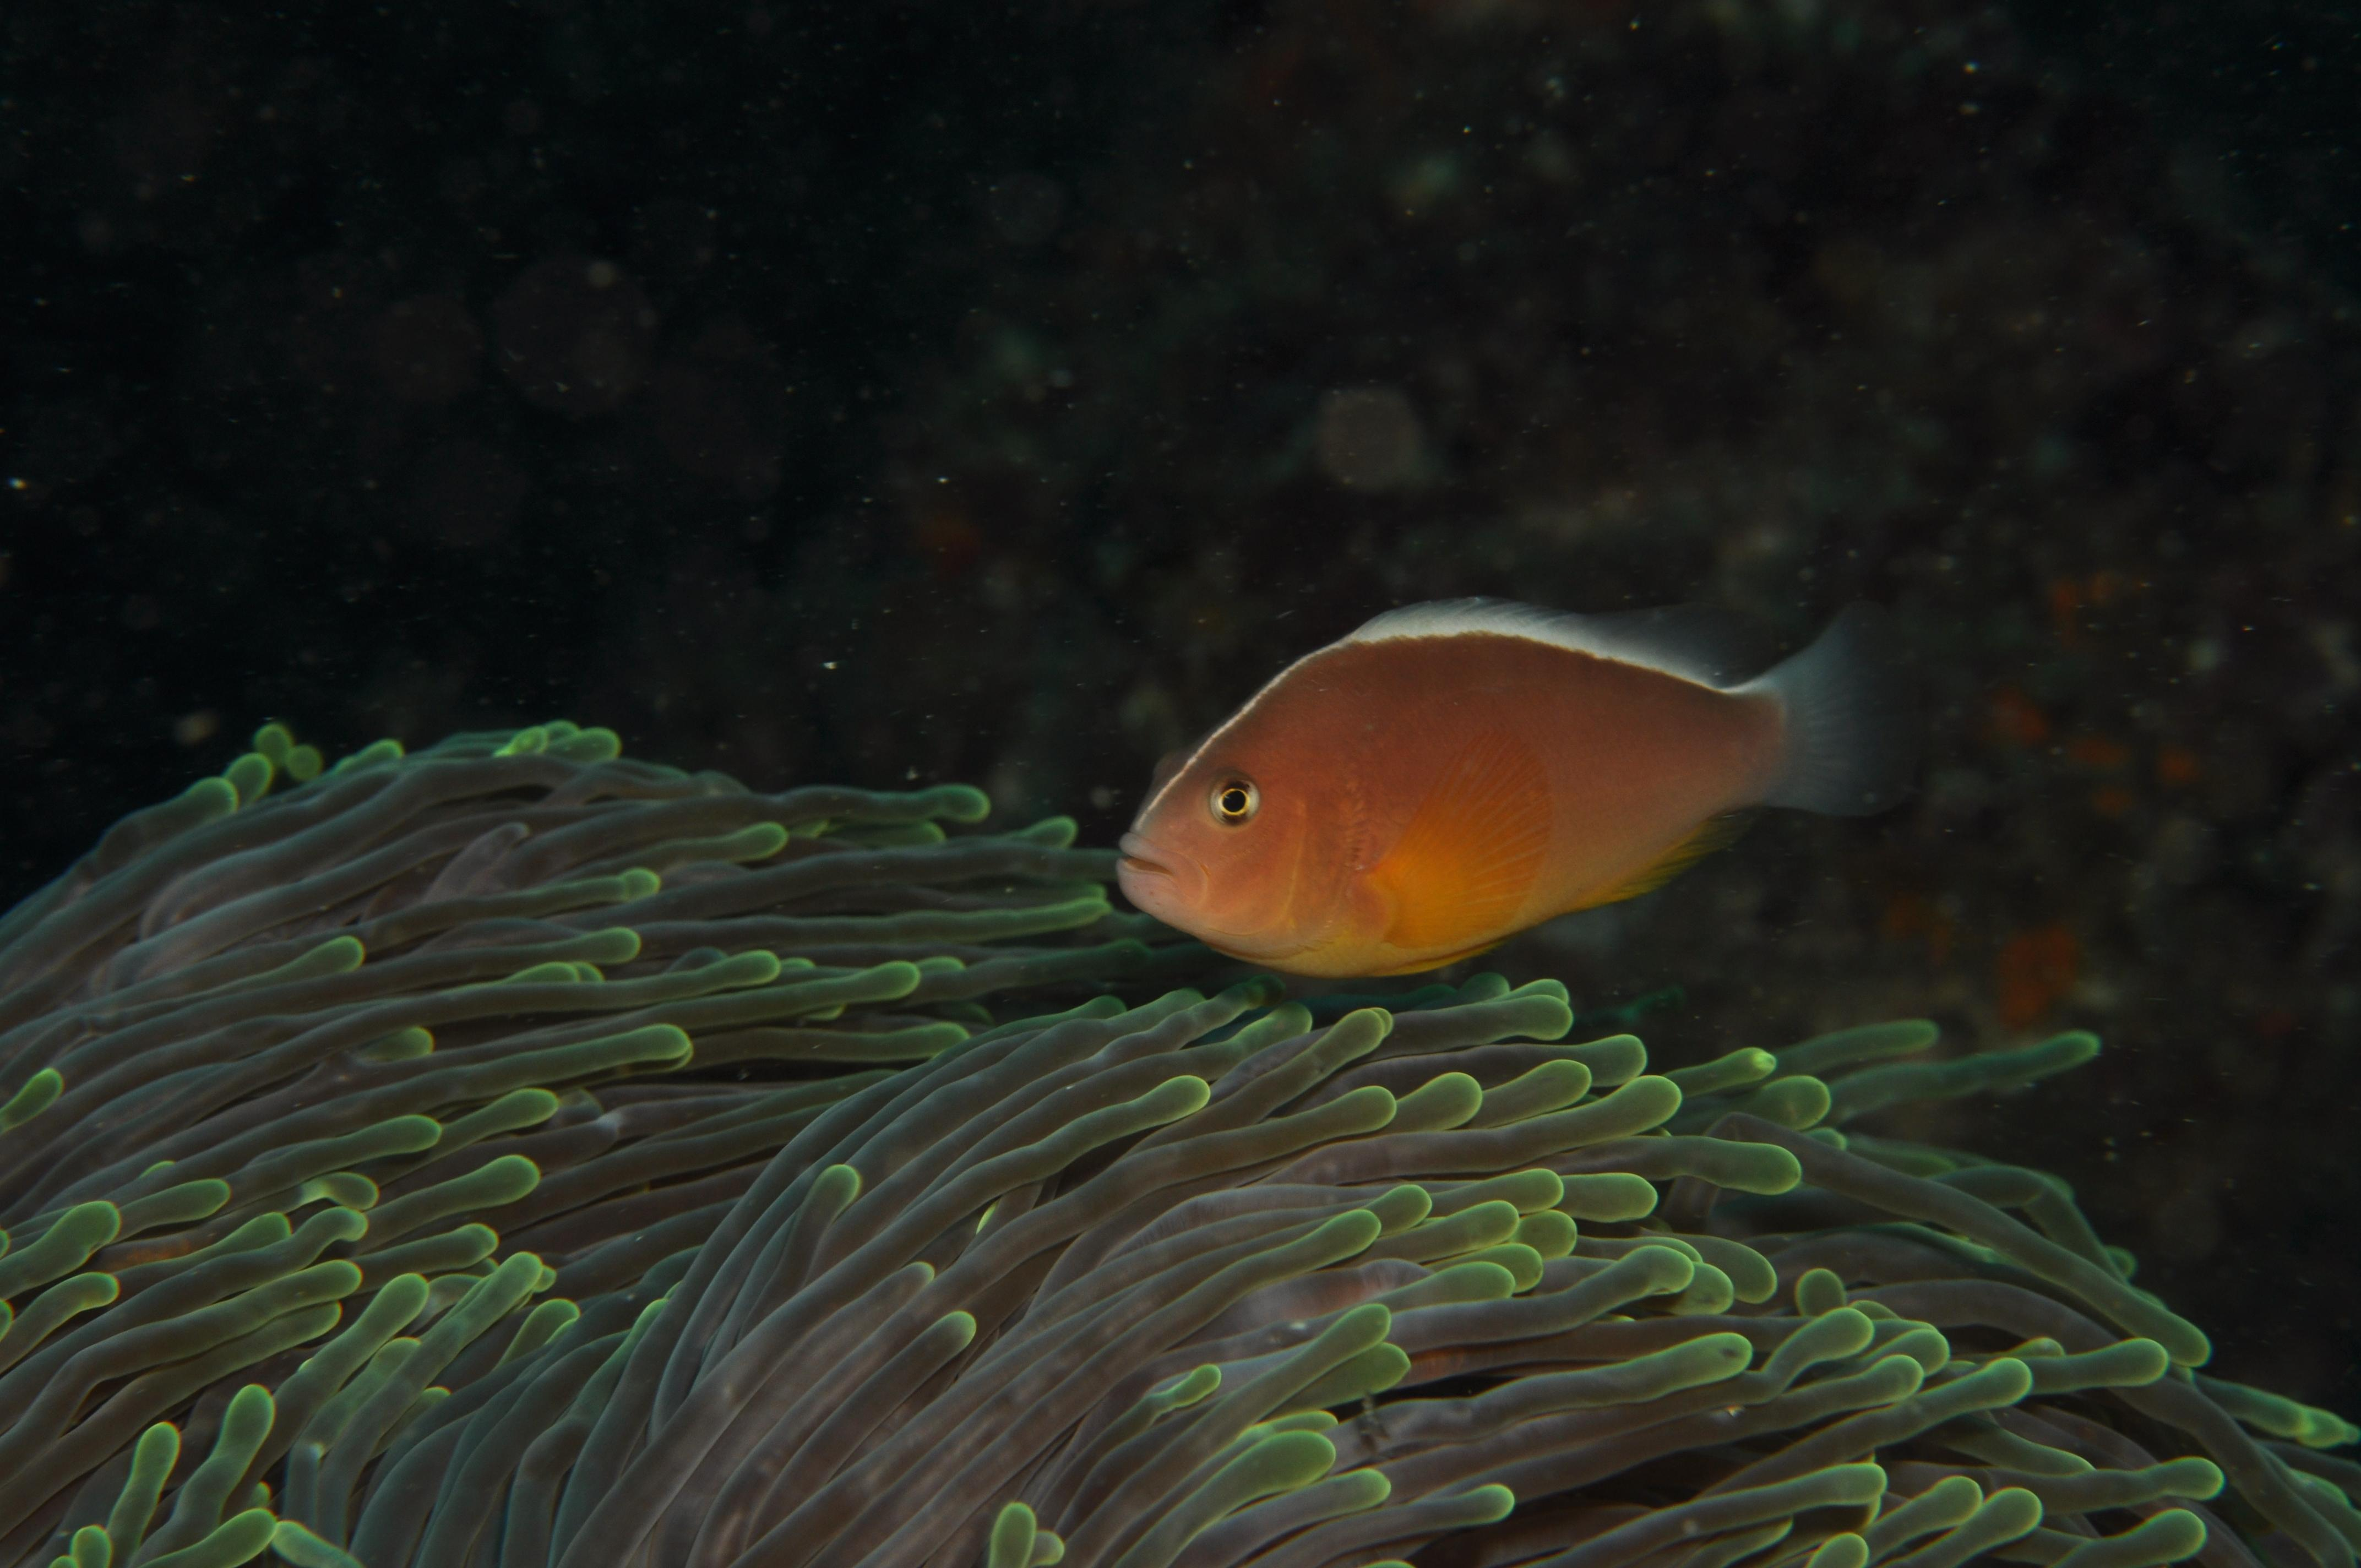Amphiprion akallopsis: (1104, 551, 1897, 976)
